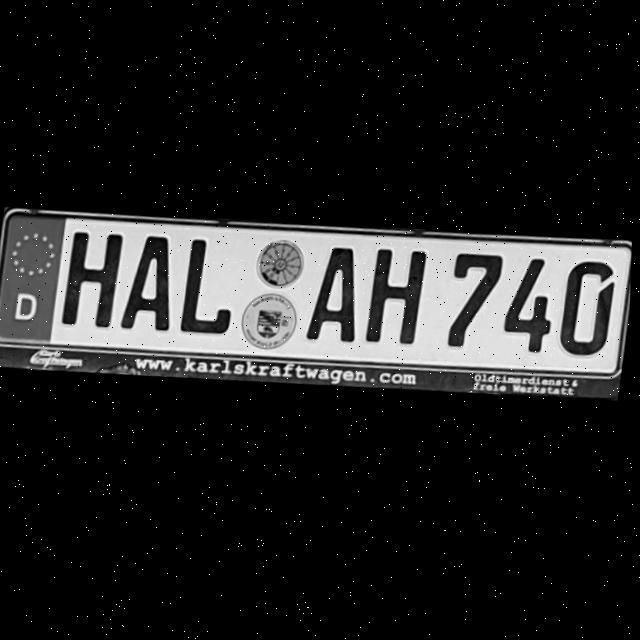license-plates: (0, 212, 630, 375)
